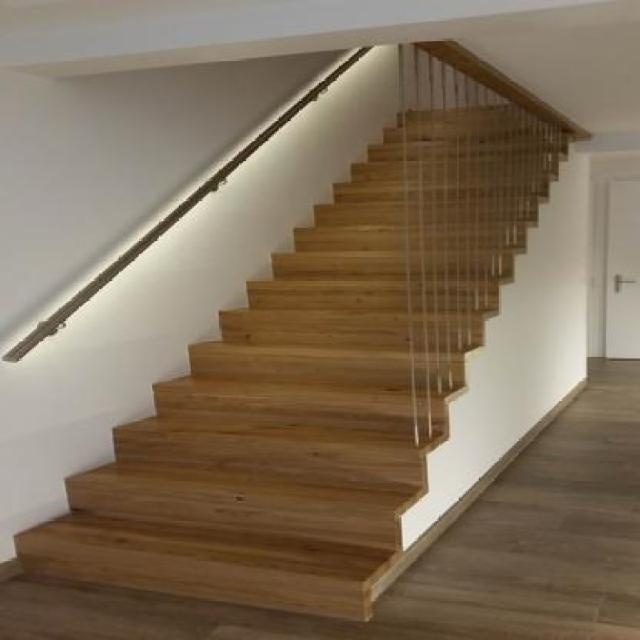stair: (10, 68, 633, 621)
